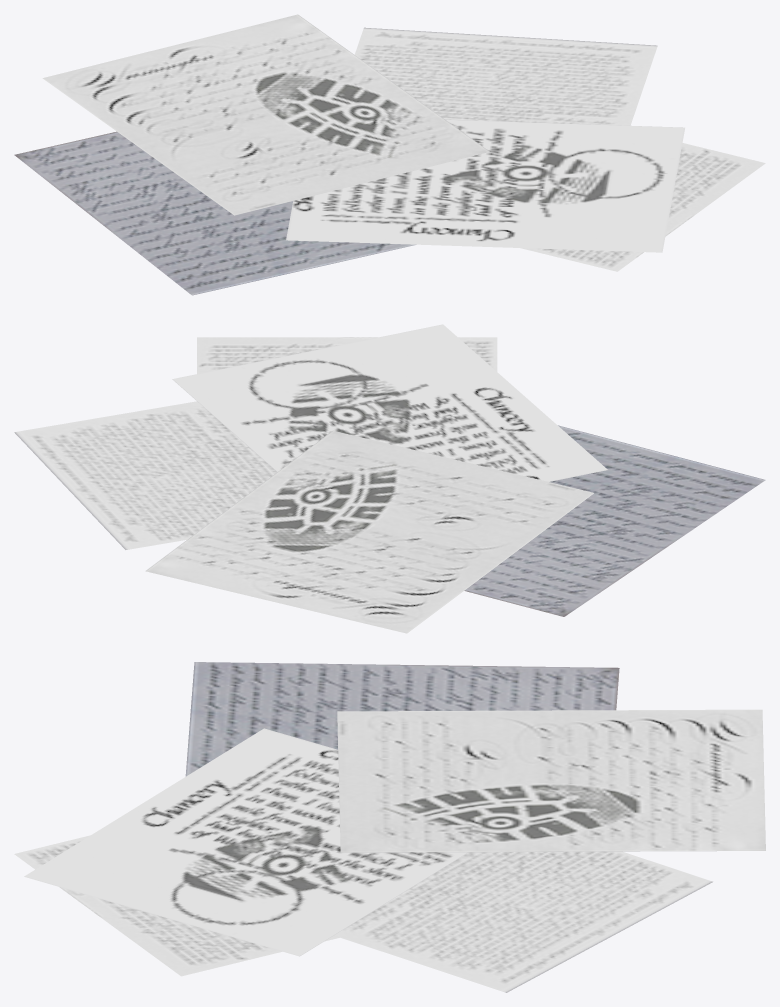
File: TuShuGuan_01_wenjian_01.FBX
3 views of the same model, one above another, from view 1: azimuth 30°, elevation 25°; view 2: azimuth 150°, elevation 25°; view 3: azimuth 270°, elevation 25° (orthographic). The views are drawn at different scales.
Parts seen in each view (by area): view 1: TuShuGuan_01_wenjian_01; view 2: TuShuGuan_01_wenjian_01; view 3: TuShuGuan_01_wenjian_01.
Part boxes in pixels (x1=…): TuShuGuan_01_wenjian_01: x1=14, y1=14, x2=765, y2=295; TuShuGuan_01_wenjian_01: x1=14, y1=324, x2=765, y2=633; TuShuGuan_01_wenjian_01: x1=14, y1=662, x2=765, y2=992.
Size of the model in its own units: 173 by 2.65 by 165.
